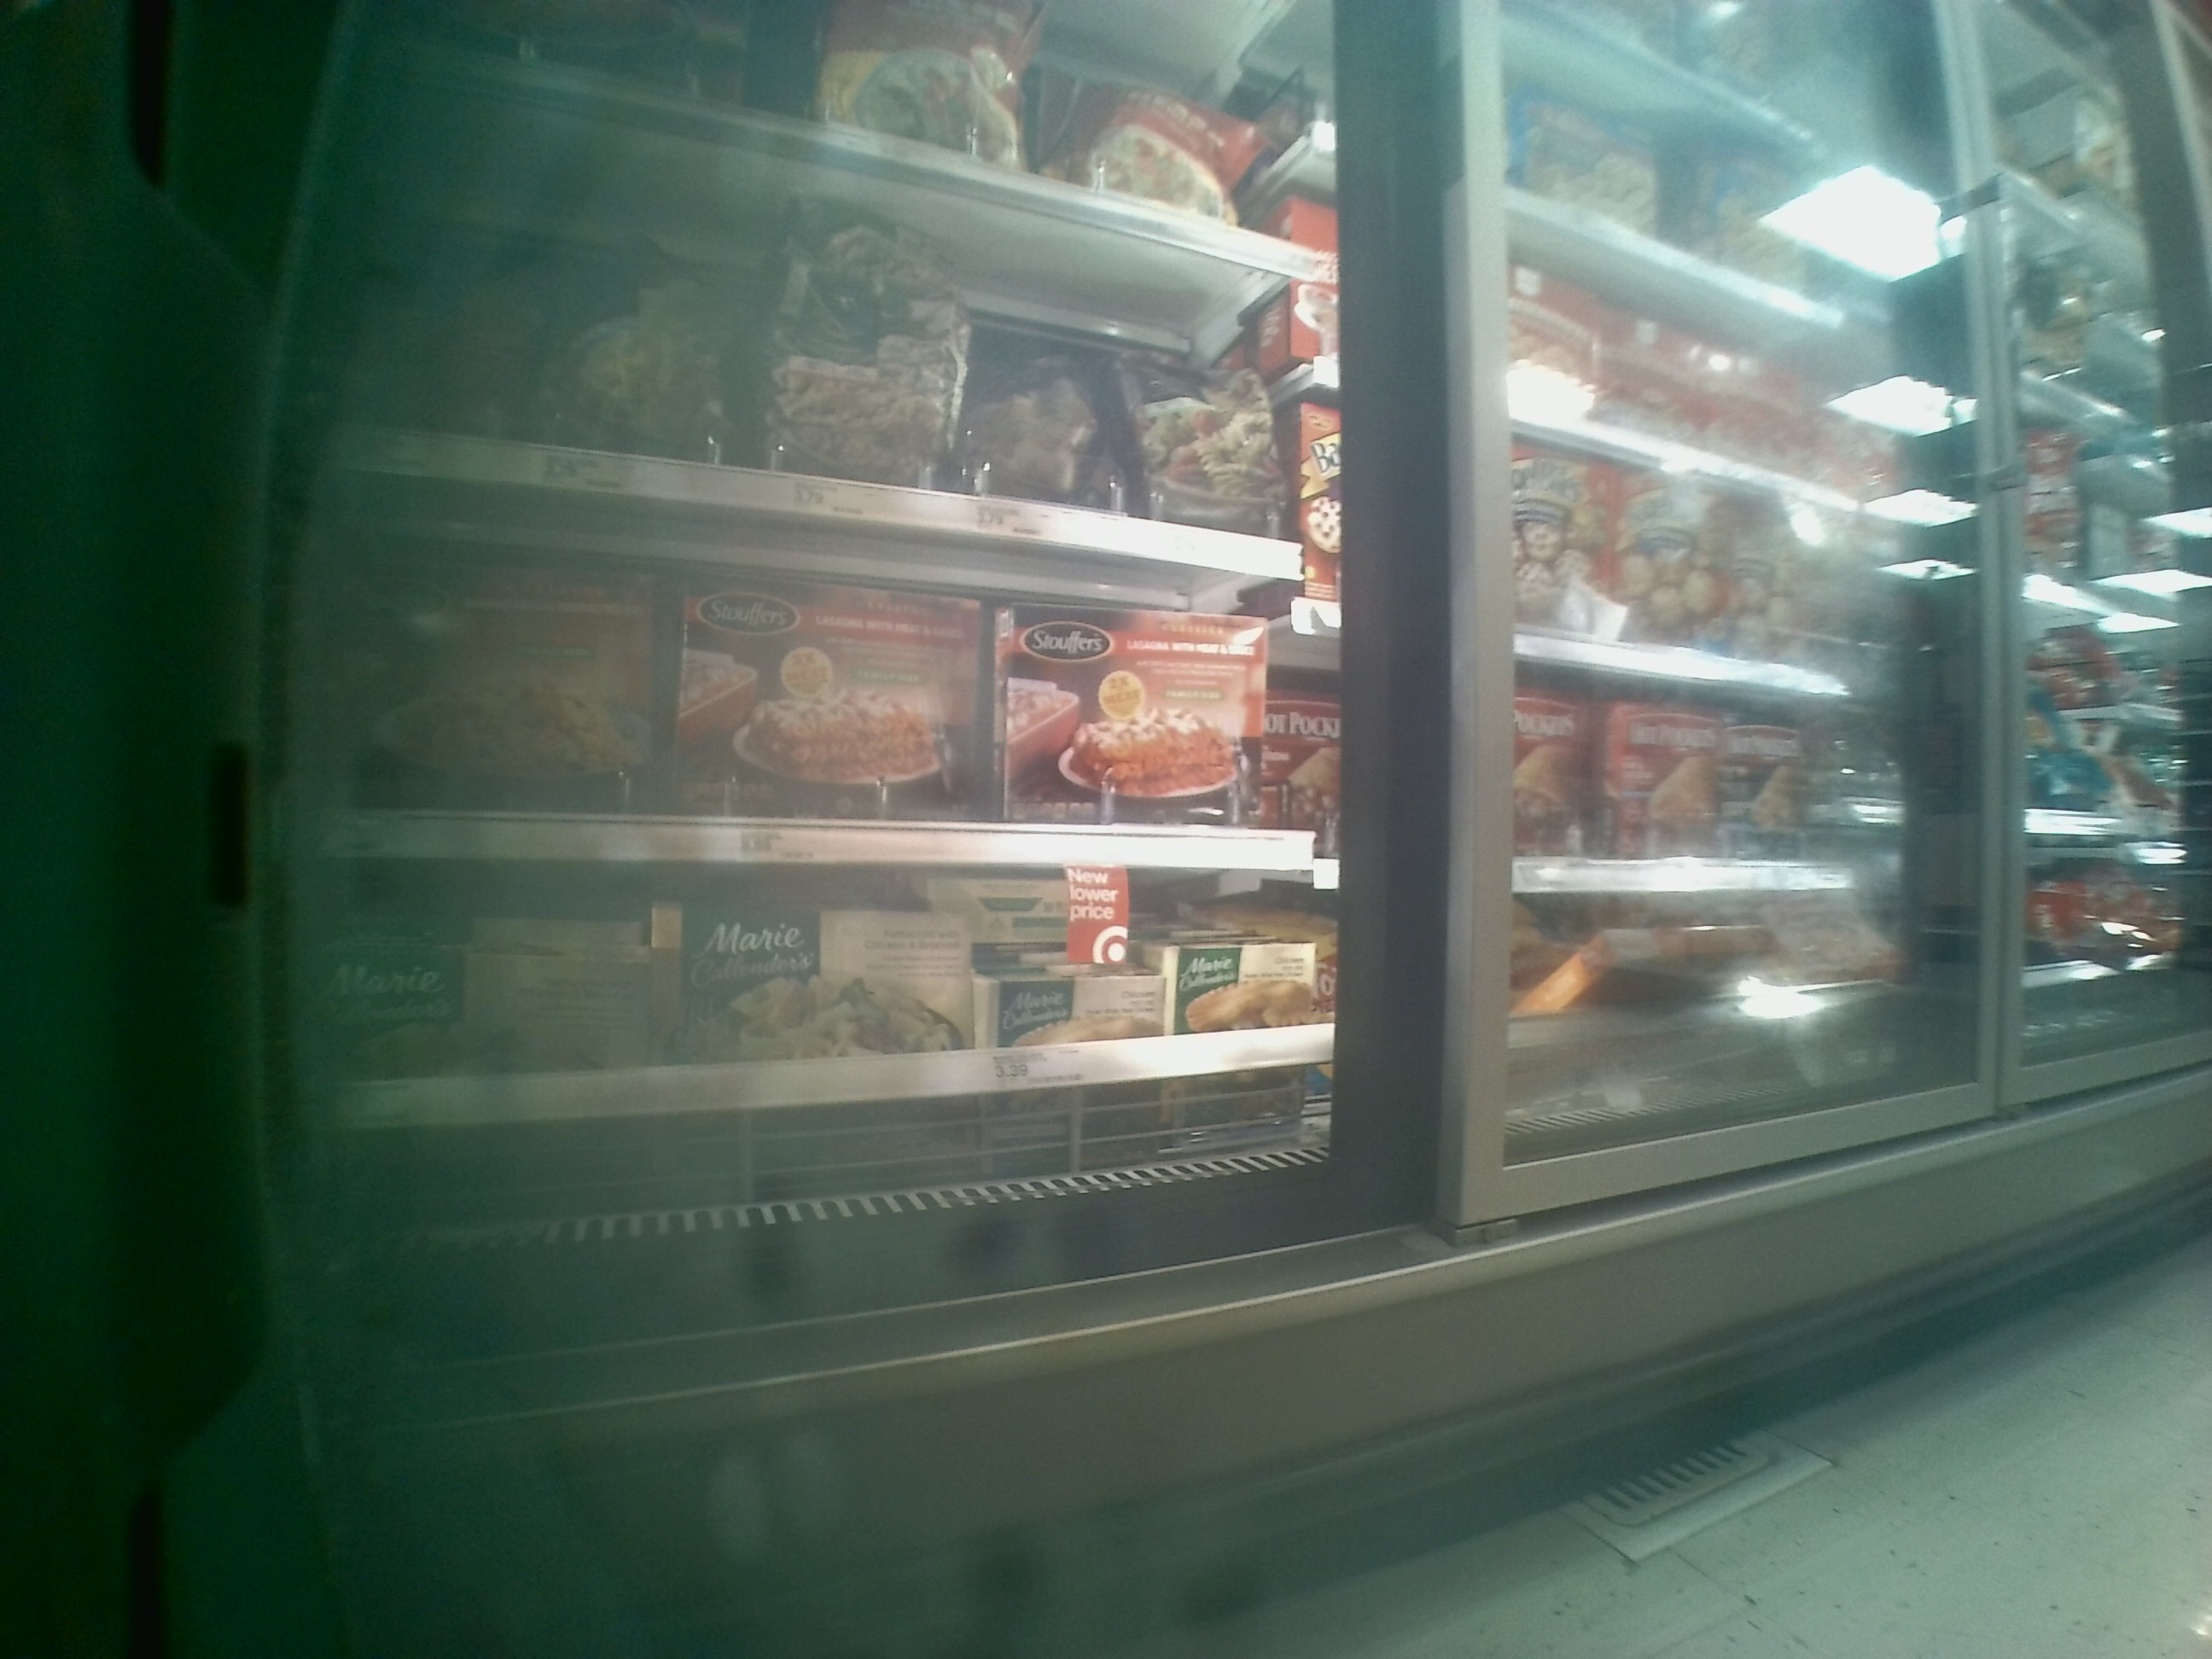shelf: (317, 188, 1324, 580), (303, 572, 1334, 863), (301, 856, 1338, 1127)
